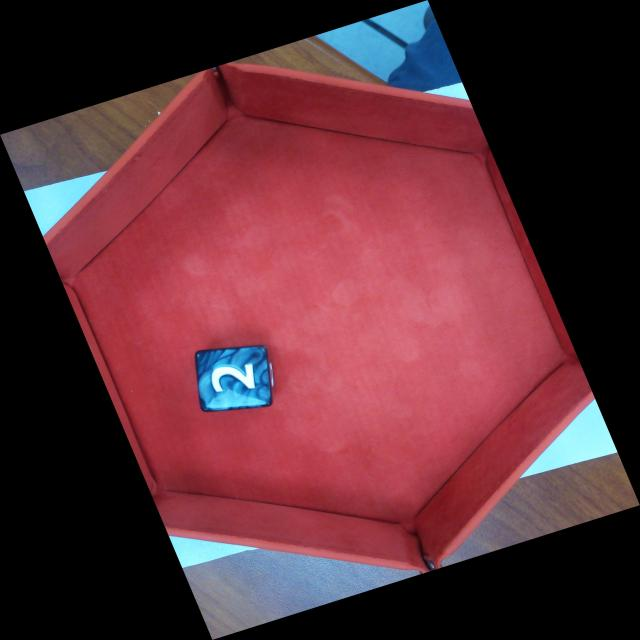dice: (195, 346, 272, 412)
